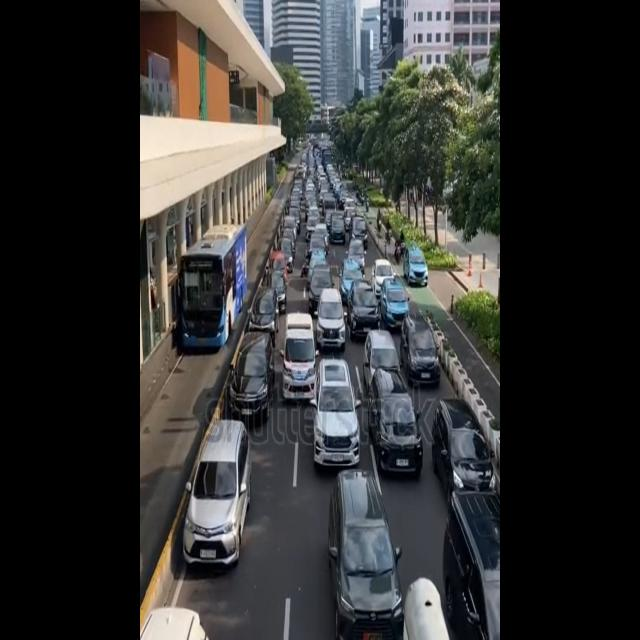Ambulance: (276, 304, 323, 408)
